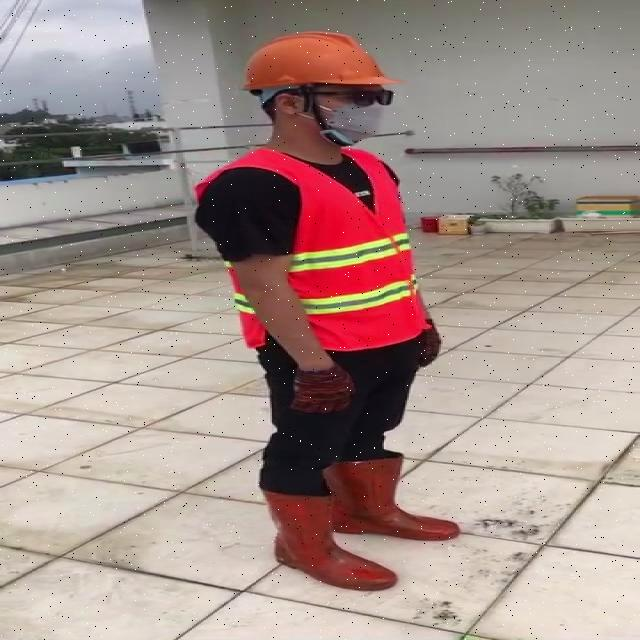Hard_hat: (234, 27, 407, 108)
Person: (188, 24, 456, 636)
Vest: (282, 145, 418, 357)
